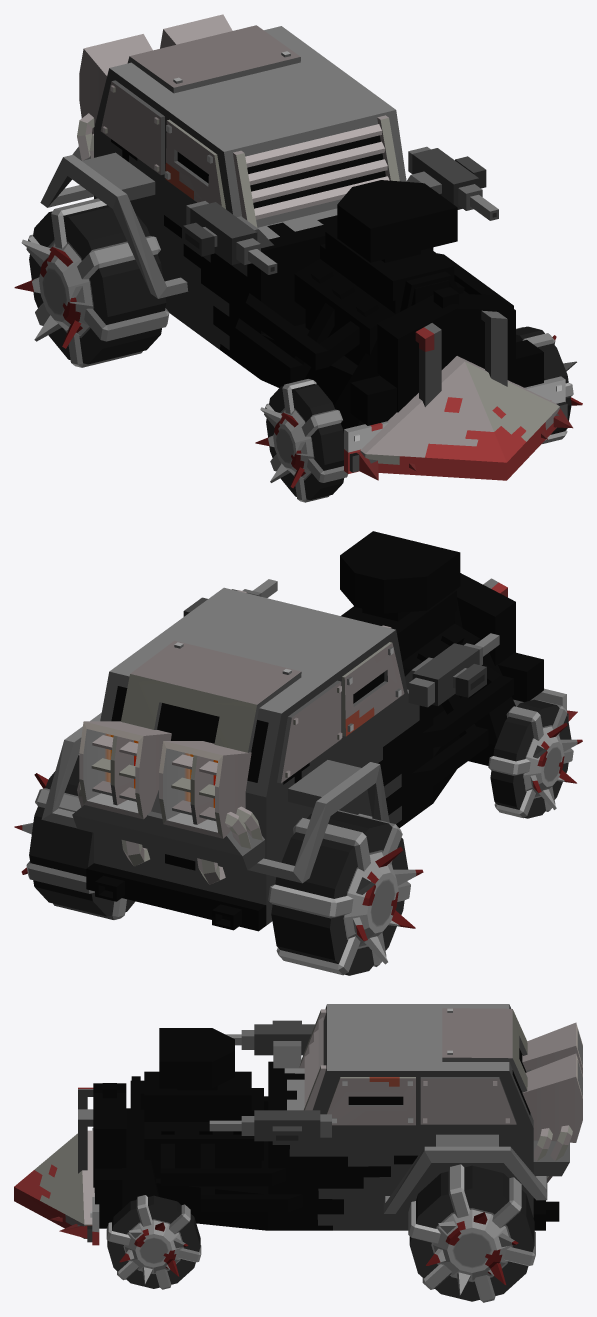
Rendered from 04_SA_Veh_HotRod.glb.
The picture shows the model from 3 angles, top to bottom: view 1: azimuth 30°, elevation 25°; view 2: azimuth 150°, elevation 25°; view 3: azimuth 270°, elevation 25°; orthographic projection. The views are drawn at different scales.
Parts seen in each view (by area): view 1: Body, armor_5, SA_Veh_HotRod_Wheel_BR, armor_2, Wheel_A_3gr (×2), armor_4_part_B_R 3, armor_3_part_A2, Nitro, Wheel_A_1gr (×2), gun_right, armor_4_part_A_R 1, SA_Veh_HotRod_Wheel_FR (+5 smaller); view 2: Body, Nitro, armor_3_part_A2, Wheel_A_3gr (×3), SA_Veh_HotRod_Wheel_BR, armor_4_part_B_R 3, SA_Veh_HotRod_Wheel_BL, Wheel_A_1gr (×2), gun_right, armor_4_part_A_R 1, SA_Veh_HotRod_Wheel_FR, armor_3_part_B_R2 (+2 smaller); view 3: Body, Nitro, SA_Veh_HotRod_Wheel_BL, armor_5, Wheel_A_3gr (×2), Wheel_A_1gr (×2), armor_3_part_A2, armor_4_part_A_L 1, armor_4_part_B_L 3, armor_3_part_B_L2, gun_left, SA_Veh_HotRod_Wheel_FL (+4 smaller).
Part boxes in pixels (bbox=[...]): Body: bbox=[94, 26, 543, 432]; armor_5: bbox=[360, 310, 559, 480]; SA_Veh_HotRod_Wheel_BR: bbox=[29, 205, 166, 364]; armor_2: bbox=[233, 115, 399, 227]; Wheel_A_3gr (×2): bbox=[26, 198, 348, 502]; armor_4_part_B_R 3: bbox=[40, 152, 188, 298]; armor_3_part_A2: bbox=[127, 25, 300, 93]; Nitro: bbox=[72, 14, 232, 160]; Wheel_A_1gr (×2): bbox=[39, 242, 313, 478]; gun_right: bbox=[183, 201, 277, 274]; armor_4_part_A_R 1: bbox=[100, 80, 164, 174]; SA_Veh_HotRod_Wheel_FR: bbox=[266, 384, 343, 500]; Body: bbox=[86, 531, 543, 931]; Nitro: bbox=[72, 721, 265, 884]; armor_3_part_A2: bbox=[121, 640, 301, 752]; Wheel_A_3gr (×3): bbox=[26, 700, 573, 975]; SA_Veh_HotRod_Wheel_BR: bbox=[271, 811, 408, 975]; armor_4_part_B_R 3: bbox=[248, 760, 389, 883]; SA_Veh_HotRod_Wheel_BL: bbox=[29, 755, 135, 916]; Wheel_A_1gr (×2): bbox=[344, 726, 564, 946]; gun_right: bbox=[405, 633, 499, 707]; armor_4_part_A_R 1: bbox=[277, 680, 342, 783]; SA_Veh_HotRod_Wheel_FR: bbox=[490, 699, 571, 818]; armor_3_part_B_R2: bbox=[342, 642, 404, 736]; Body: bbox=[93, 1004, 559, 1230]; Nitro: bbox=[522, 1022, 582, 1182]; SA_Veh_HotRod_Wheel_BL: bbox=[409, 1165, 534, 1301]; armor_5: bbox=[14, 1087, 94, 1238]; Wheel_A_3gr (×2): bbox=[106, 1164, 535, 1302]; Wheel_A_1gr (×2): bbox=[124, 1209, 510, 1280]; armor_3_part_A2: bbox=[442, 1008, 531, 1092]; armor_4_part_A_L 1: bbox=[420, 1077, 516, 1124]; armor_4_part_B_L 3: bbox=[383, 1134, 547, 1213]; armor_3_part_B_L2: bbox=[326, 1077, 415, 1125]; gun_left: bbox=[209, 1110, 331, 1144]; SA_Veh_HotRod_Wheel_FL: bbox=[107, 1195, 200, 1288].
Size of what is drawn, in the model's own units: 4.44 by 3.22 by 7.78.
1 material, 1 textured.
